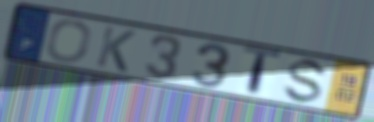3: (143, 33, 185, 82), (190, 42, 231, 89)
K: (93, 24, 139, 75)
O: (43, 18, 94, 64)
S: (280, 58, 331, 106)
T: (240, 45, 284, 101)
